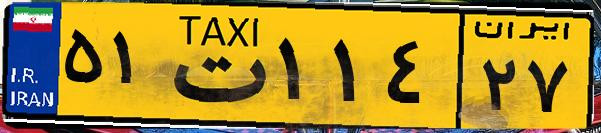1: (270, 28, 330, 110), (330, 28, 385, 110), (110, 28, 158, 98)
2: (475, 38, 525, 113)
4: (385, 28, 445, 110)
5: (57, 26, 110, 100)
7: (525, 38, 570, 115)
ت: (158, 12, 270, 120)
